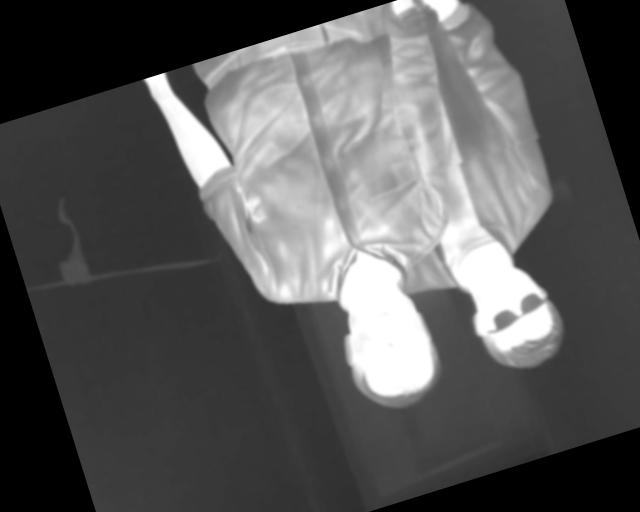face: (328, 277, 449, 420), (457, 251, 573, 382)
